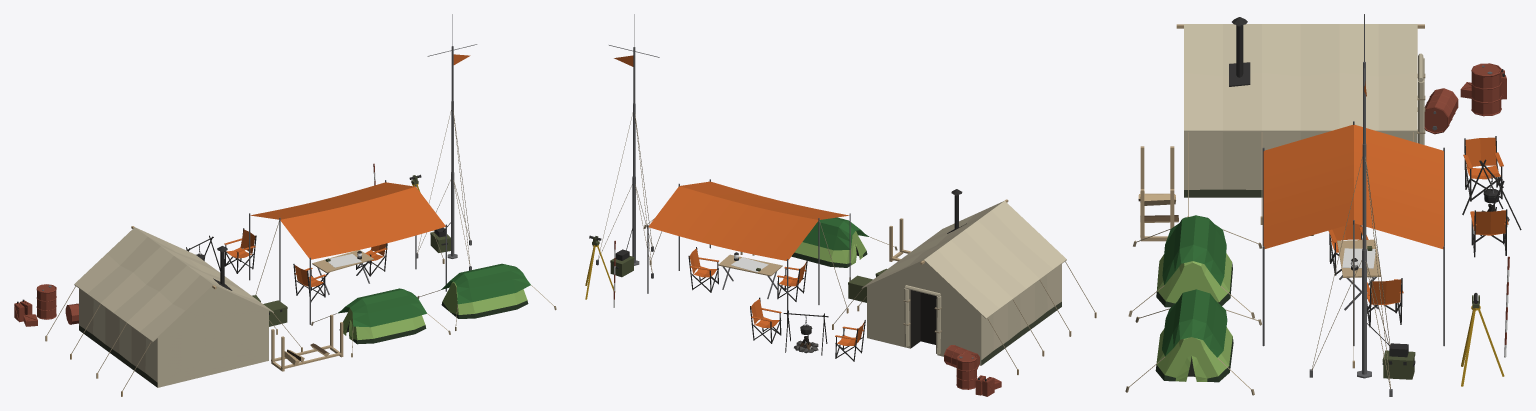
Rendered from expedition-camp.glb.
3 views of the same model, side by side, from view 1: azimuth 30°, elevation 25°; view 2: azimuth 150°, elevation 25°; view 3: azimuth 270°, elevation 25° (orthographic). The views are drawn at different scales.
Parts seen in each view (by area): view 1: ExpeditionCamp; view 2: ExpeditionCamp; view 3: ExpeditionCamp.
Boxes of the visible parts, x1,y1,x2,y2 form: ExpeditionCamp: (14,14,556,396); ExpeditionCamp: (585,14,1096,396); ExpeditionCamp: (1125,14,1521,396).
Size of the model in its own units: 13.59 by 7.55 by 7.46.
